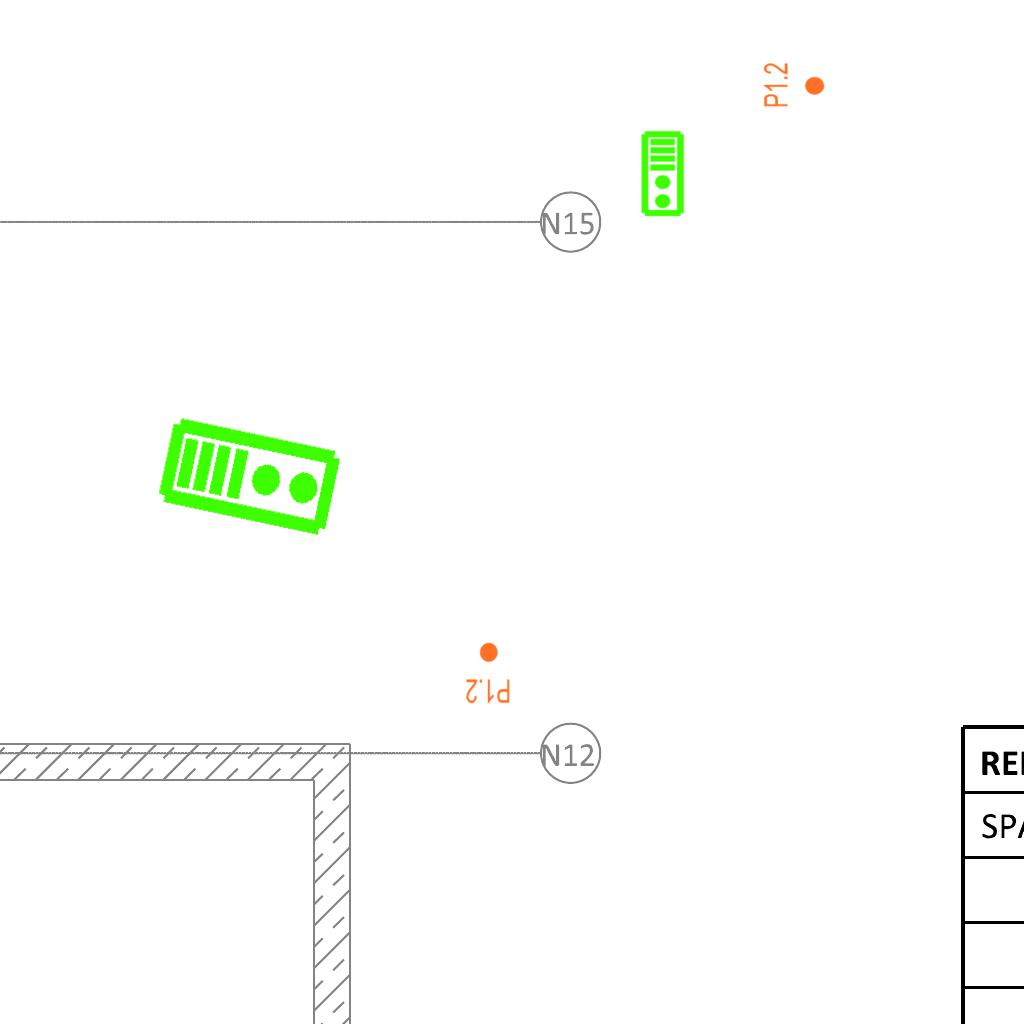Downlight_LED_Einbauleuchten_Flur: (465, 641, 511, 705), (762, 62, 826, 108)
Gegensprechanlage_mit_Video: (154, 410, 347, 540), (640, 130, 687, 218)
